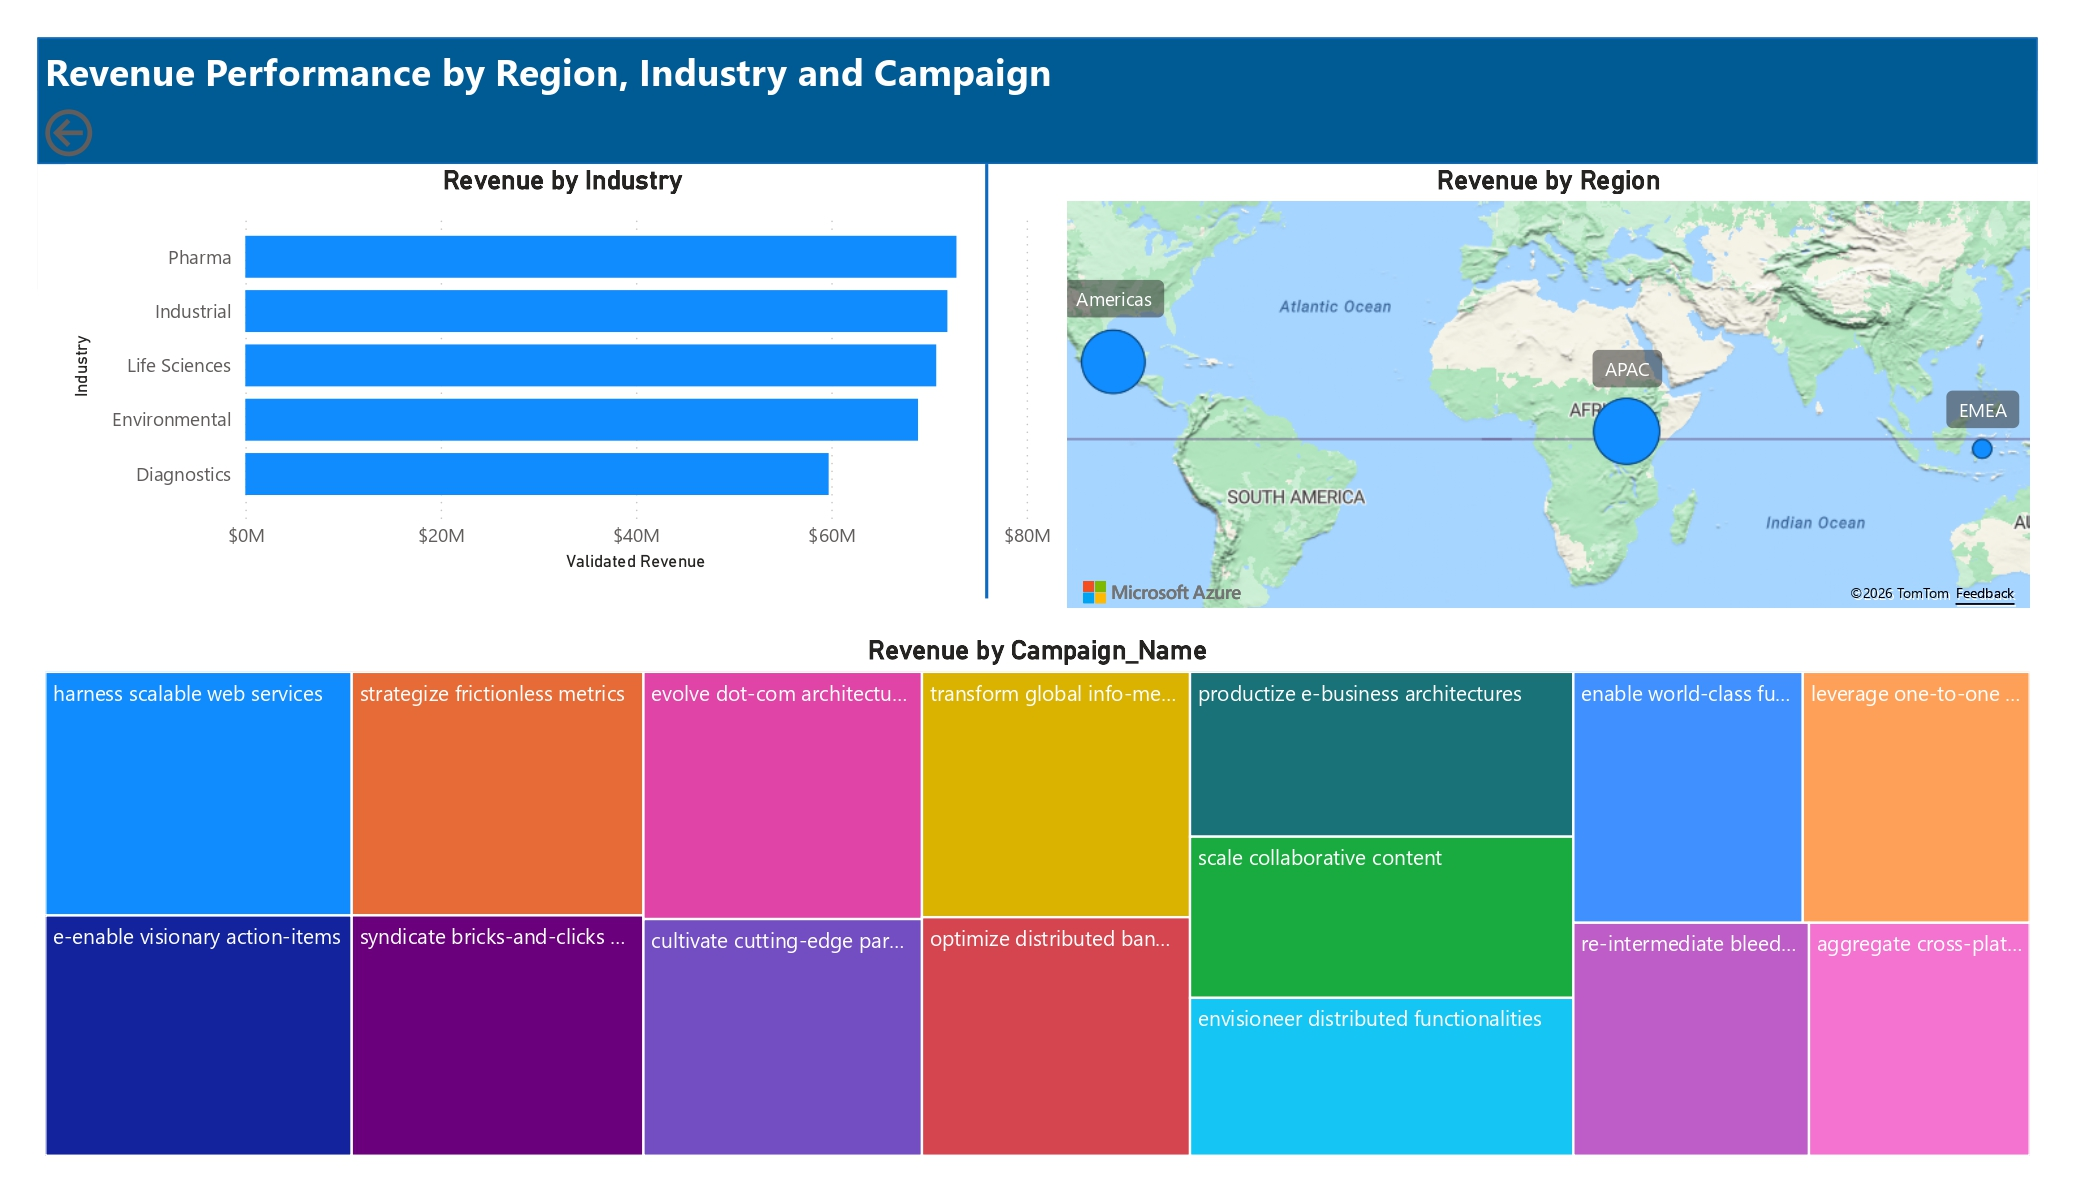

The dashboard page shown, as its layout file describes it:
{"tool":"powerbi","page":{"name":"Revenue Impact","canvas":[1280,720],"ordinal":2},"visuals":[{"type":"shape","box":[0,0,1280.1,81.3],"z":0},{"type":"textbox","box":[0,0,679.9,45.5],"z":1000},{"type":"actionButton","box":[0,40.7,99.2,40.7],"z":2000},{"type":"clusteredBarChart","title":"Revenue by Industry","fields":{"Y":["DAX_Measures.Validated Revenue"],"Category":["dim_account.Industry"]},"box":[17.9,81.3,636,265.1],"z":3000},{"type":"azureMap","title":"Revenue by Region","fields":{"Size":["DAX_Measures.Validated Revenue"],"Category":["dim_sales_rep.Region"]},"box":[653.9,81.3,626.2,289.5],"z":4000},{"type":"treemap","title":"Revenue by Campaign_Name","fields":{"Group":["dim_campaign.Campaign_Name"],"Values":["DAX_Measures.Validated Revenue"]},"box":[0,382.2,1280.1,338.3],"z":5000},{"type":"shape","box":[598.6,81.3,17.9,278.1],"z":6000}]}

Visuals, with their boxes on the page's 1280x720 design canvas (x1, y1, x2, y2). These are canvas units, not pixel positions in the 2075x1200 screenshot, which may show the page scaled, cropped or inside an application window:
shape: l=0, t=0, r=1280, b=81
textbox: l=0, t=0, r=680, b=46
actionButton: l=0, t=41, r=99, b=81
"Revenue by Industry" clusteredBarChart: l=18, t=81, r=654, b=346
"Revenue by Region" azureMap: l=654, t=81, r=1280, b=371
"Revenue by Campaign_Name" treemap: l=0, t=382, r=1280, b=720
shape: l=599, t=81, r=616, b=359
